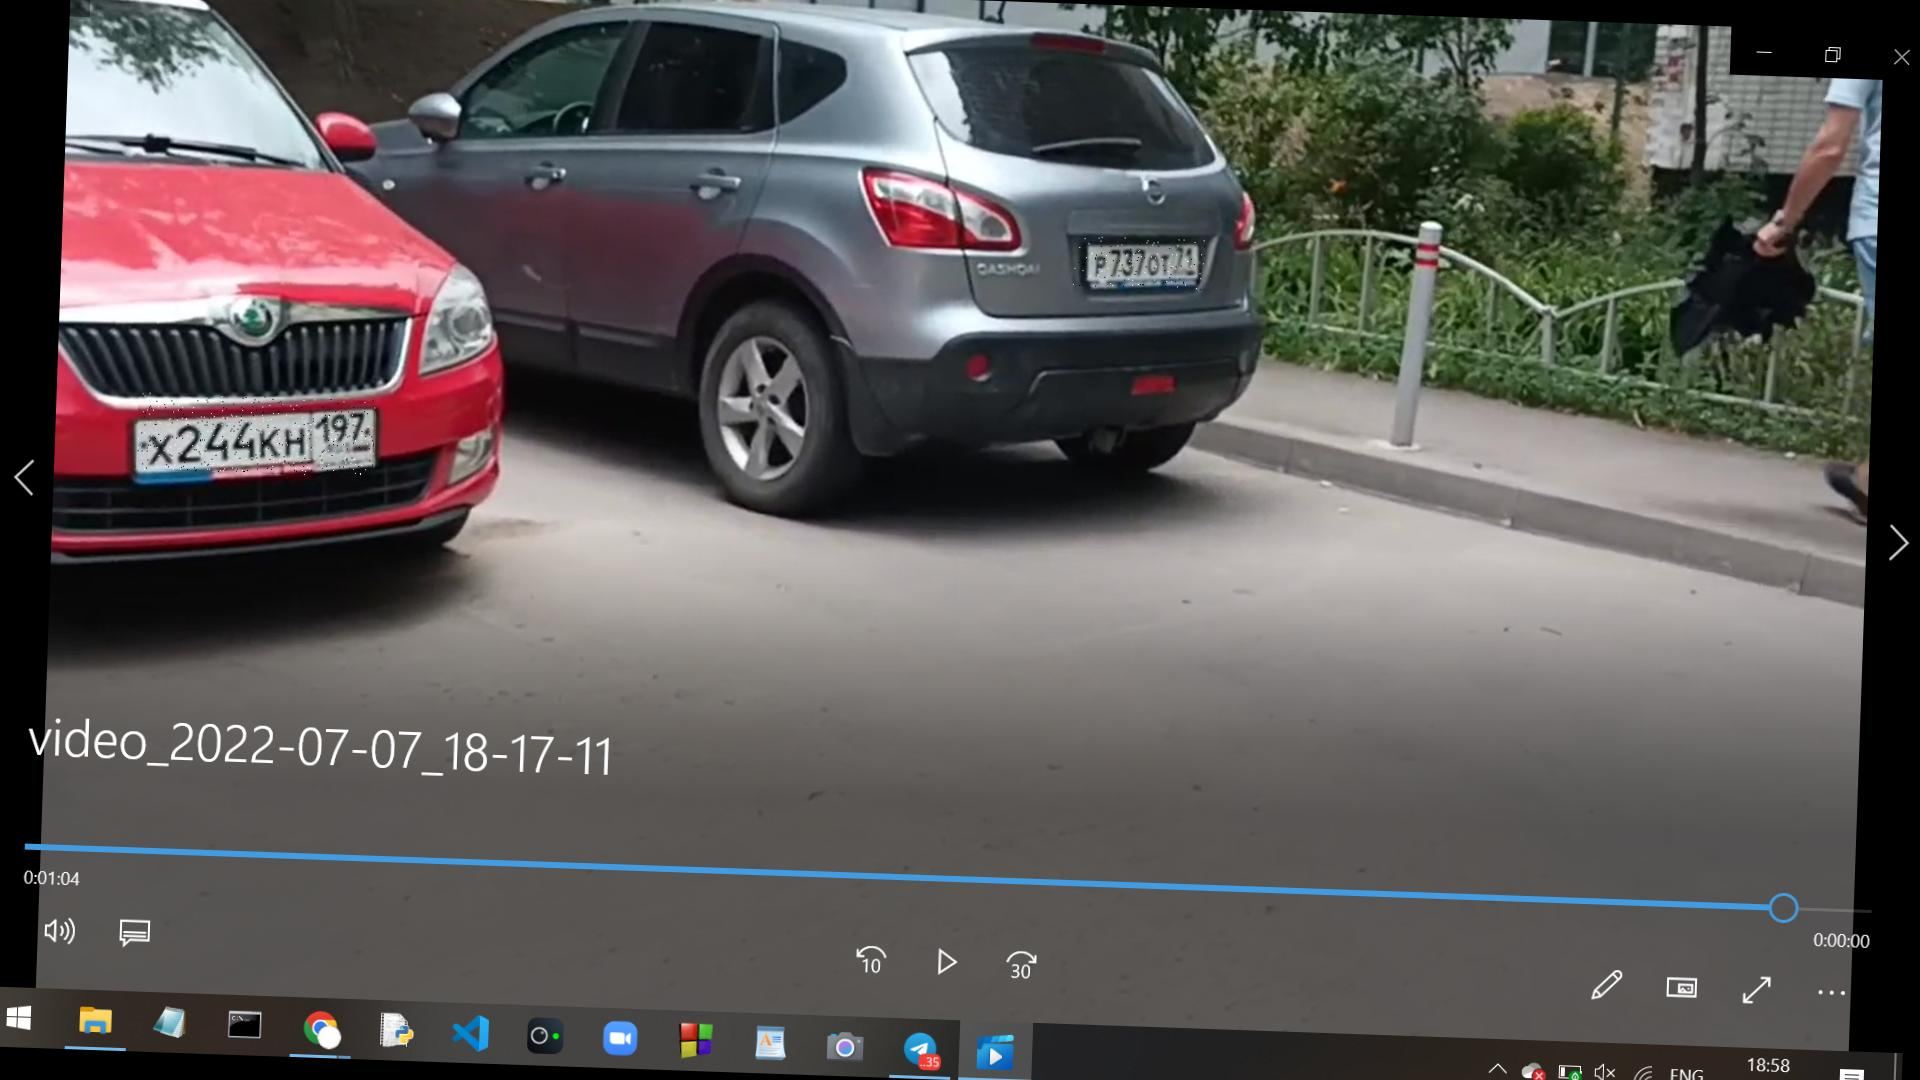plate: (138, 394, 378, 479), (1075, 237, 1208, 291)
